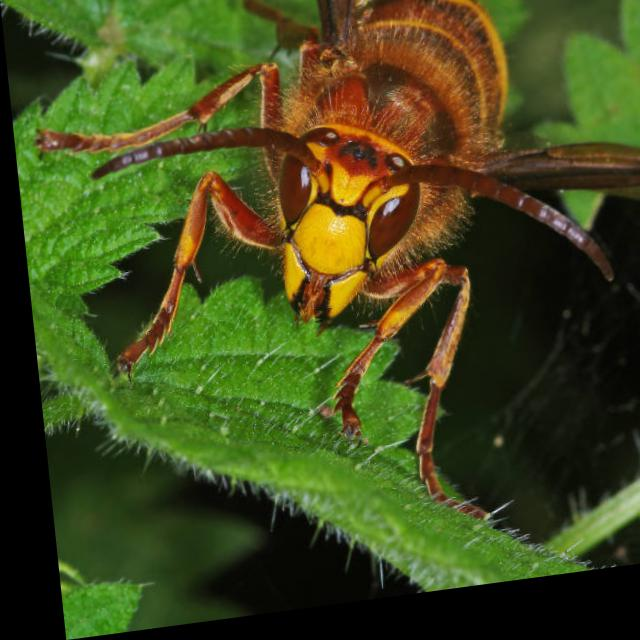Vespa Crabro: (24, 0, 639, 584)
